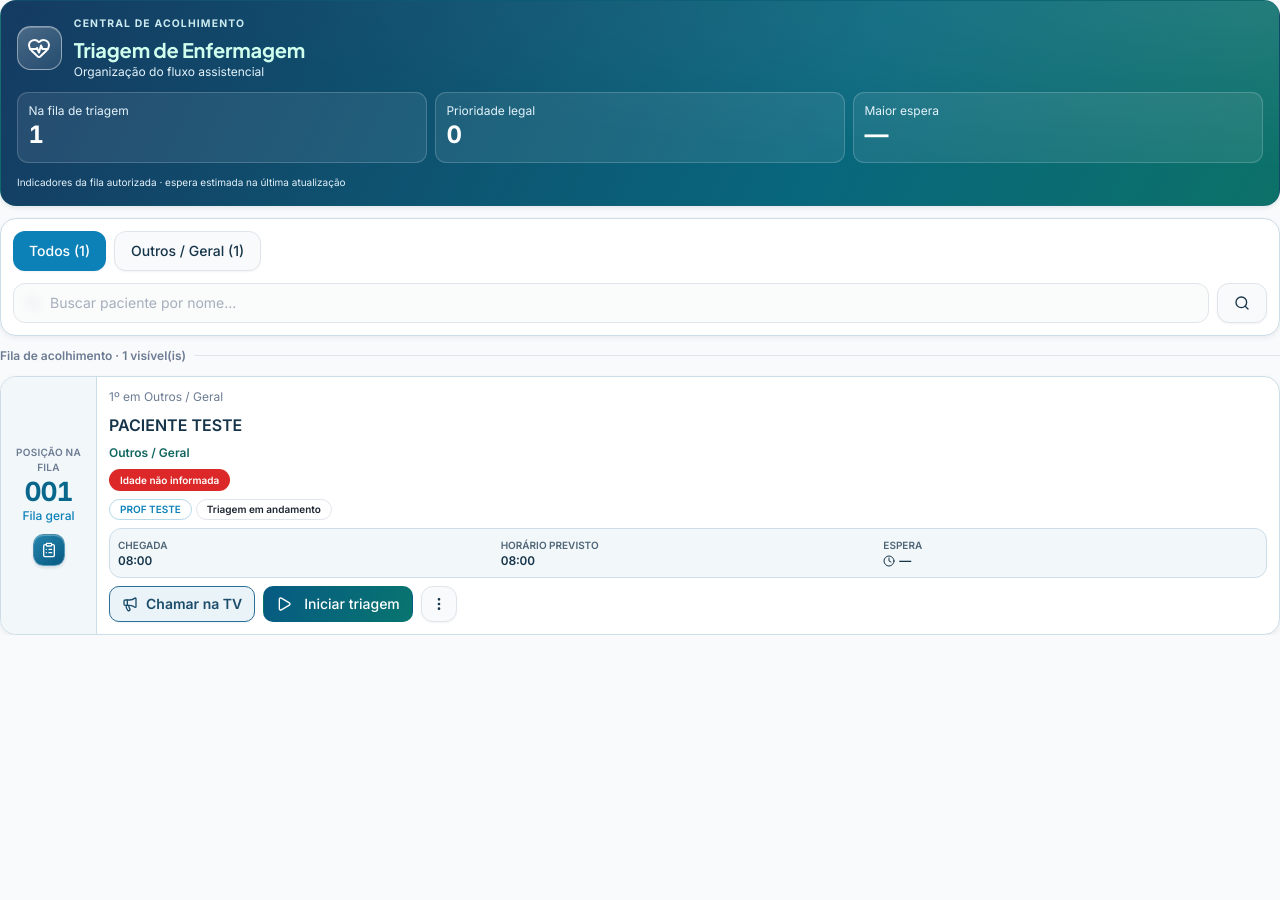
it: Triagem: conclusão atômica e erros recuperáveis › envia uma única RPC com valores normalizados e fecha somente após sucesso
Click the button "Iniciar triagem". click: {"x": 338, "y": 604}
box: [263, 586, 413, 622]
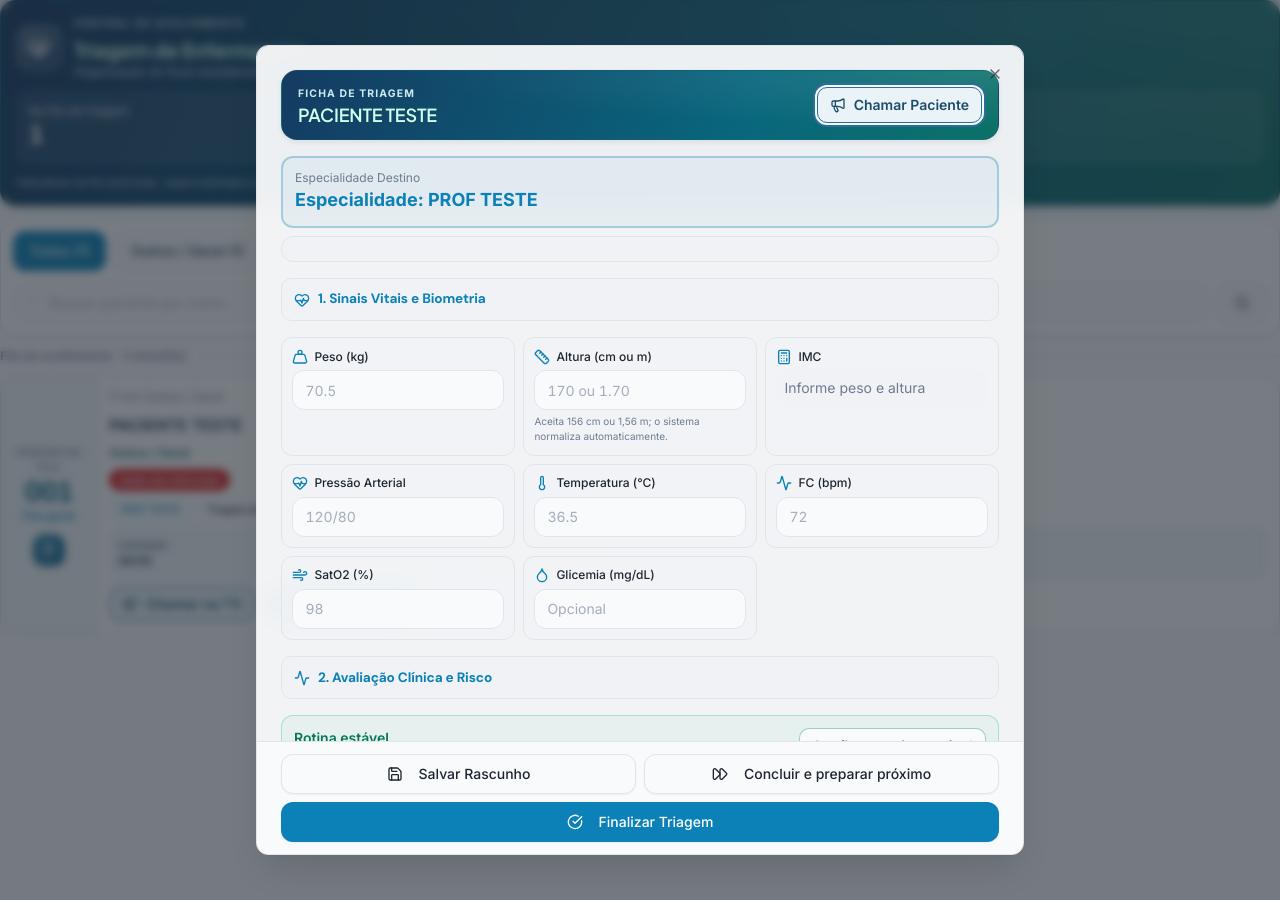
Check: the field named "Peso (kg)" is shown
Type "63,0" into the field named "Peso (kg)". click: {"x": 398, "y": 390}
box: [292, 370, 504, 410]
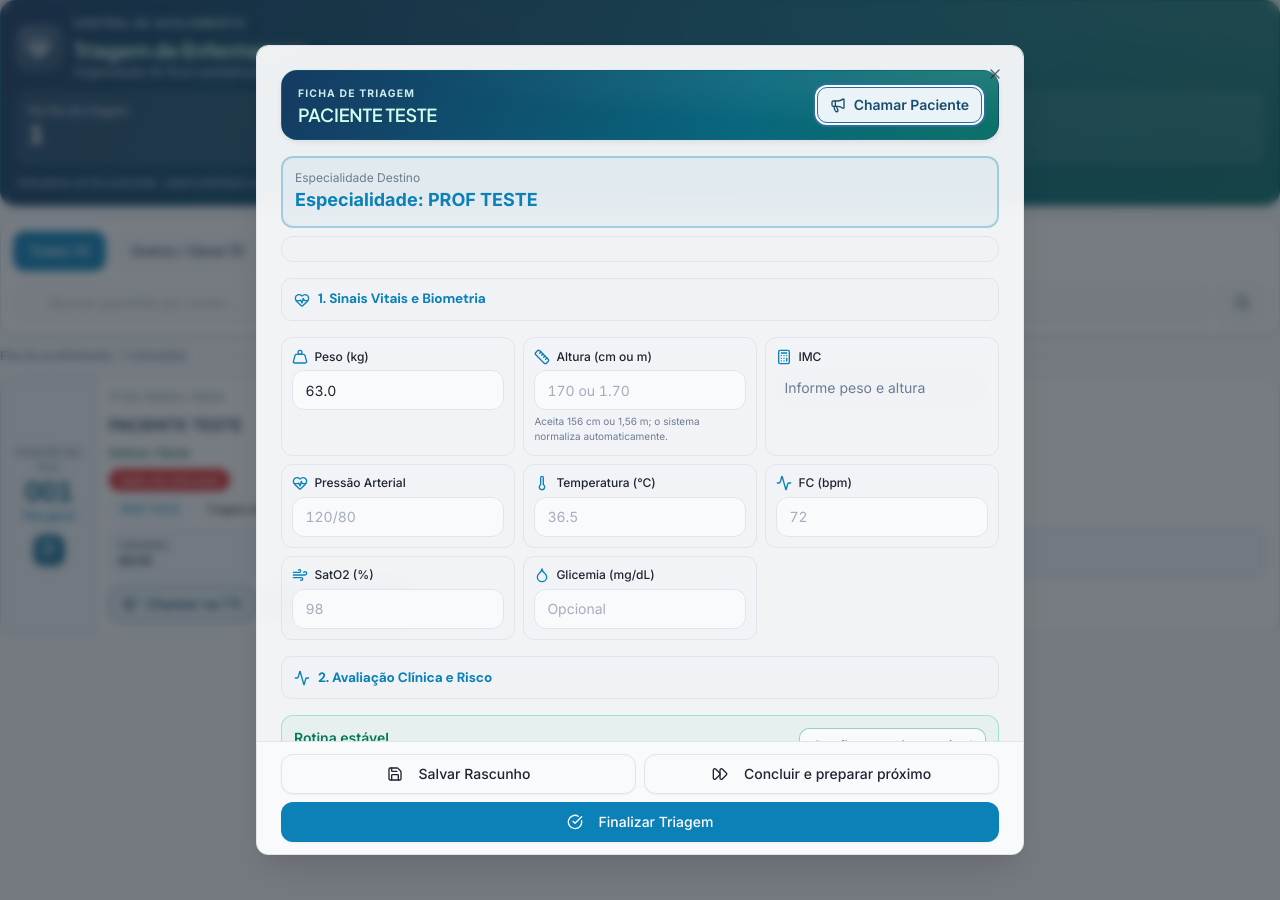
Type "1,56" into the field named "Altura (cm ou m)". click: {"x": 640, "y": 390}
box: [534, 370, 746, 410]
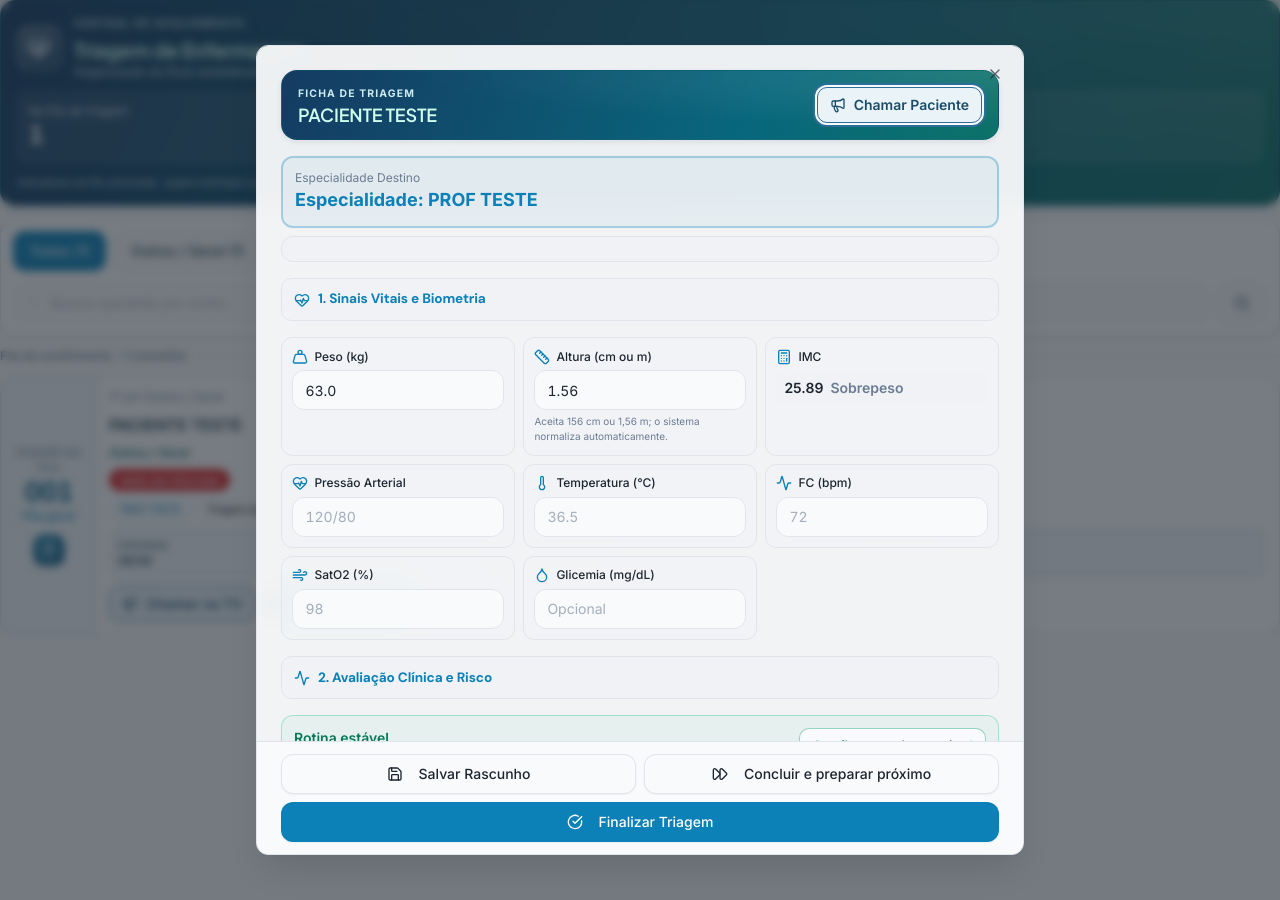
Click the button "Finalizar Triagem". click: {"x": 640, "y": 822}
box: [281, 802, 999, 842]
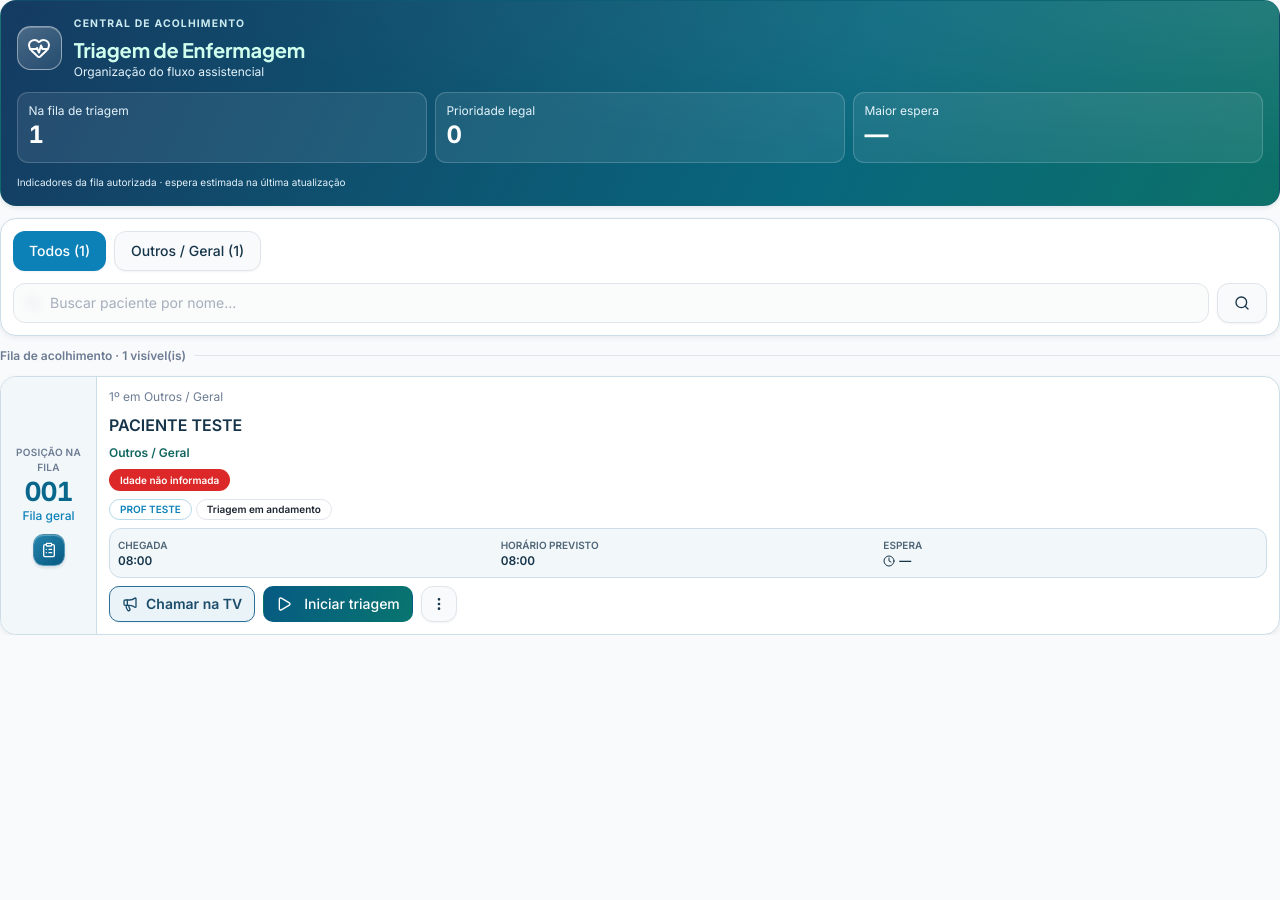
Check: the dialog is gone
